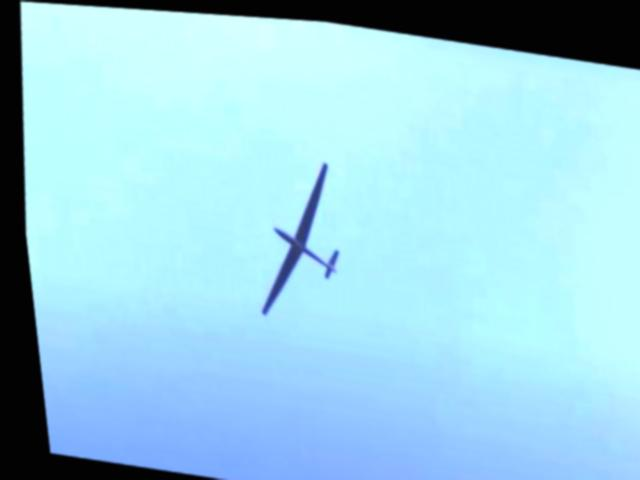iha: (240, 146, 352, 322)
